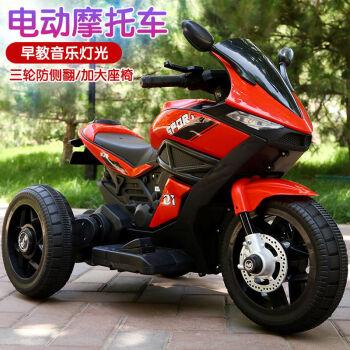empty: (8, 22, 350, 333)
